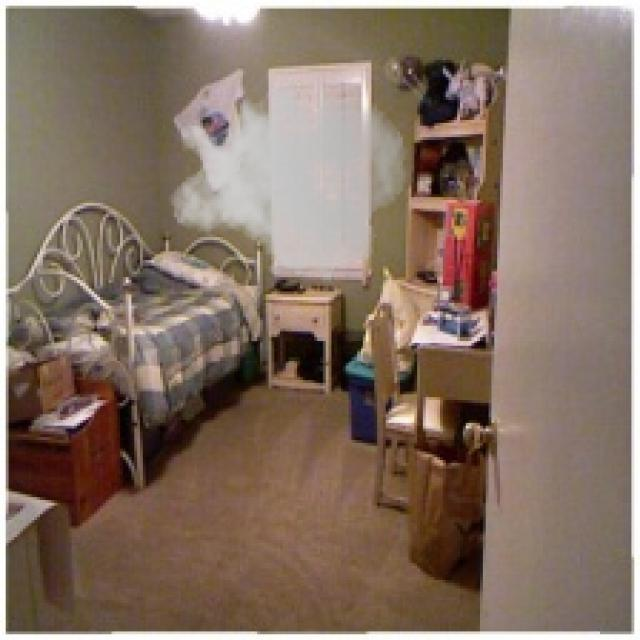smoke: (168, 63, 408, 288)
